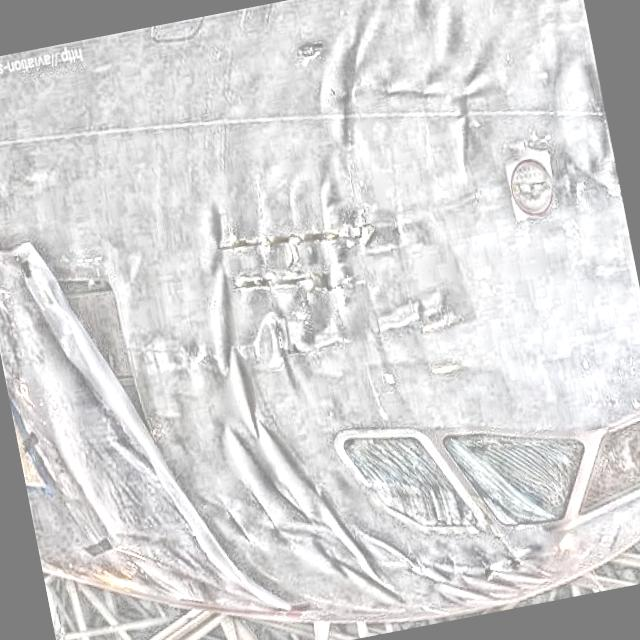crack: (212, 205, 374, 316)
